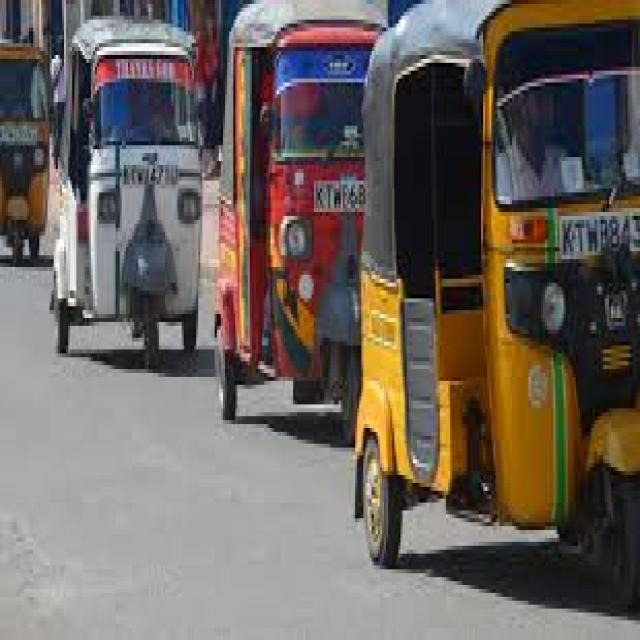tuktuk: (348, 0, 640, 640), (192, 0, 389, 459), (30, 0, 206, 398)
